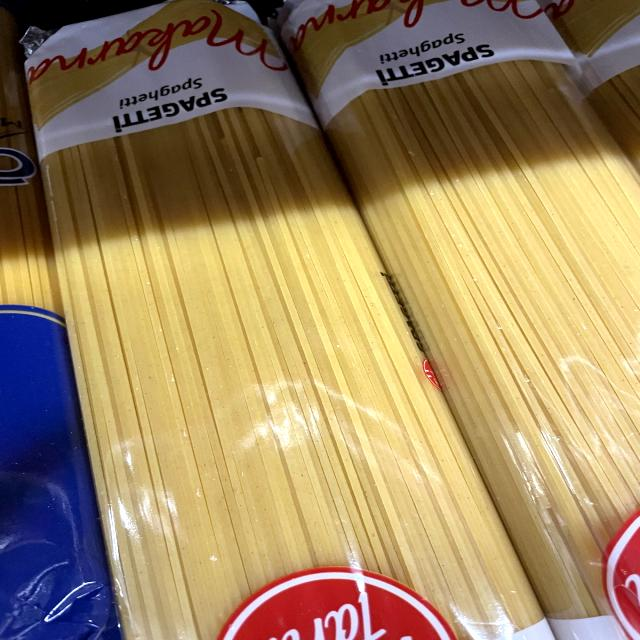spaghetti: (43, 38, 545, 640), (296, 14, 640, 640)
